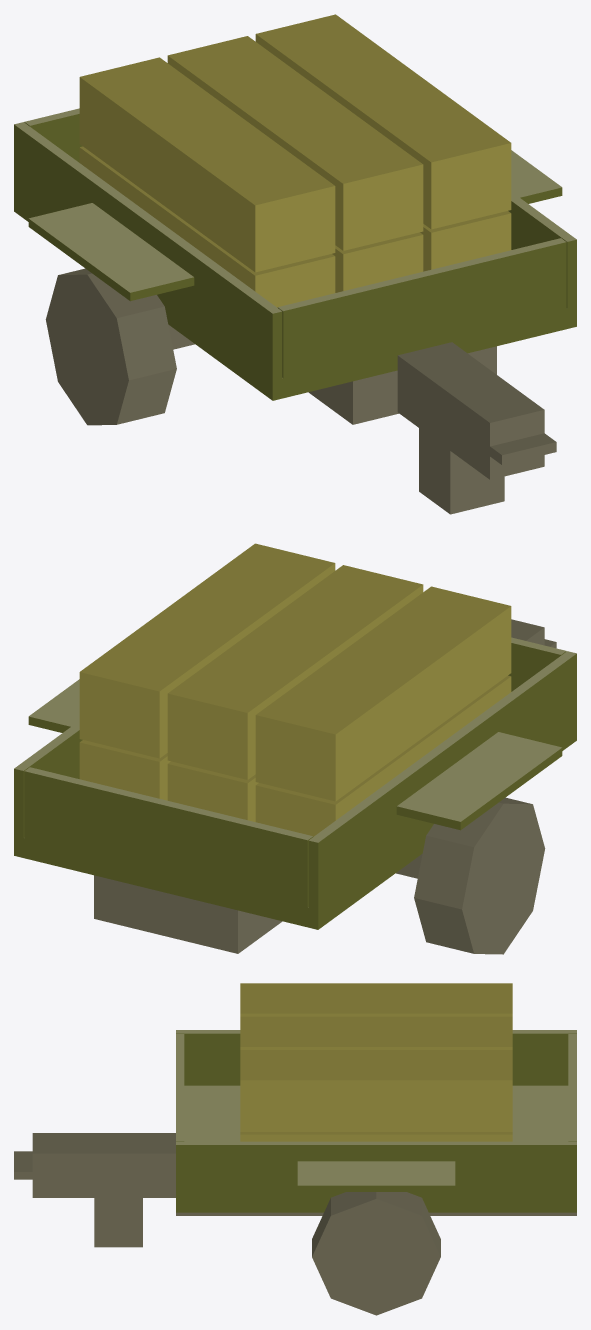
File: SM_RemolqueMunicion_v1_Cohetes_LOD1.fbx
The picture shows the model from 3 angles, top to bottom: view 1: azimuth 30°, elevation 25°; view 2: azimuth 150°, elevation 25°; view 3: azimuth 270°, elevation 25°; orthographic projection. The views are drawn at different scales.
Visible parts, largest first — view 1: SM_remolque_municion_v1_LOD1; view 2: SM_remolque_municion_v1_LOD1; view 3: SM_remolque_municion_v1_LOD1.
Boxes of the visible parts, x1,y1,x2,y2 form: SM_remolque_municion_v1_LOD1: (14, 14, 576, 514); SM_remolque_municion_v1_LOD1: (14, 543, 576, 954); SM_remolque_municion_v1_LOD1: (14, 983, 576, 1315).
Size of the model in its own units: 2.7 by 1.58 by 3.93.
